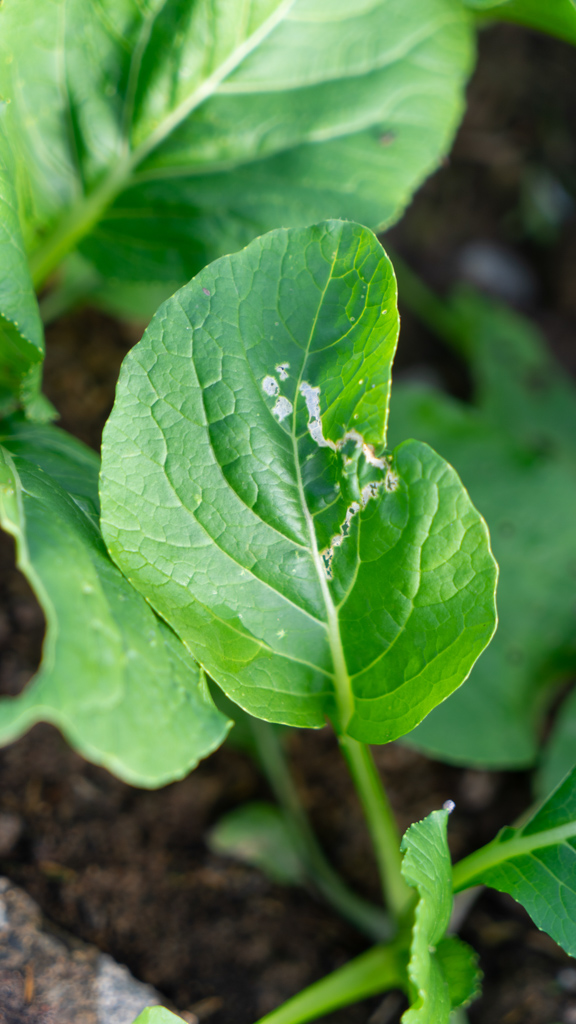Canker: (244, 349, 409, 604)
